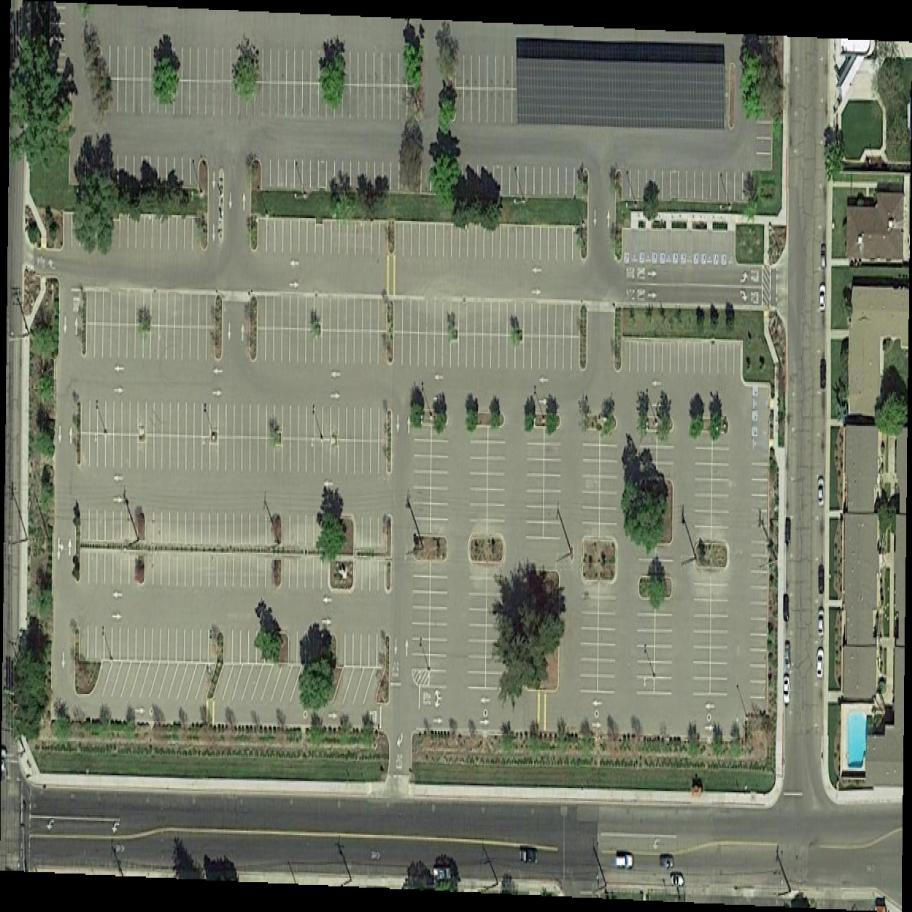small-vehicle: (518, 847, 539, 868), (614, 852, 635, 871), (816, 647, 825, 680), (669, 872, 686, 888), (658, 854, 676, 869), (433, 868, 452, 882), (819, 282, 827, 314), (818, 477, 826, 507), (820, 359, 827, 392), (785, 640, 792, 670), (784, 675, 791, 704), (819, 607, 825, 640), (786, 517, 792, 549), (820, 244, 827, 271), (819, 566, 825, 596), (784, 593, 790, 623)
